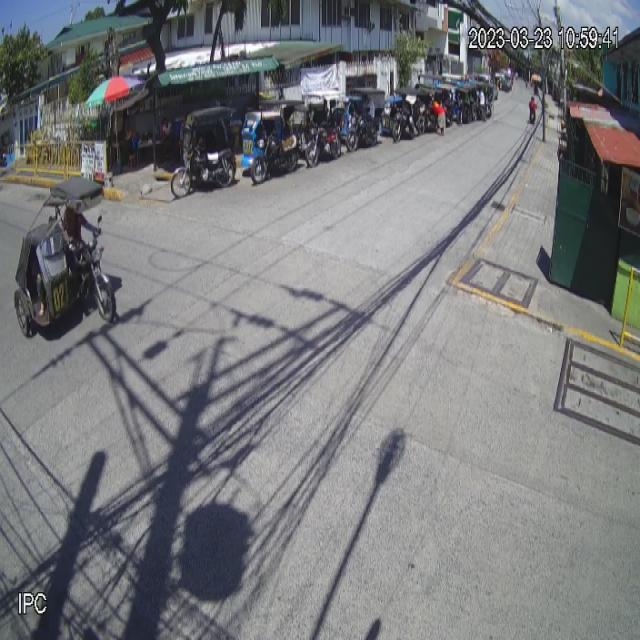Tricycle: (13, 174, 118, 338)
